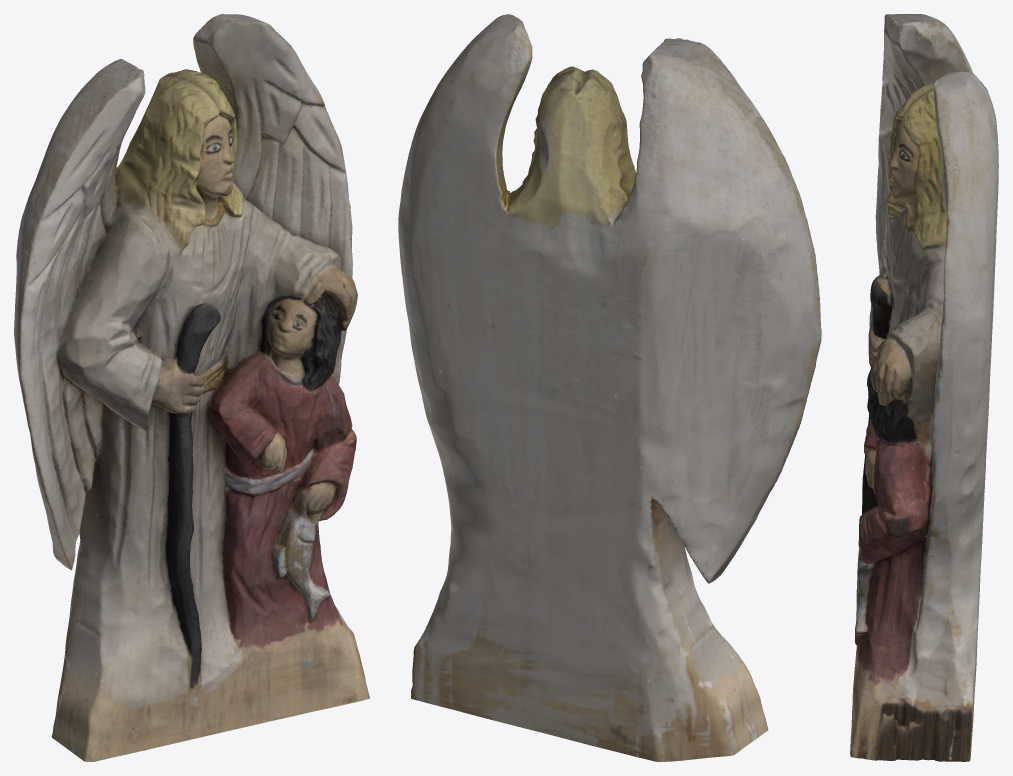
The model's file is MPLW_E_1272_lowpoly.glb.
3 renders of one model, left to right at view 1: azimuth 30°, elevation 25°; view 2: azimuth 150°, elevation 25°; view 3: azimuth 270°, elevation 25°, orthographic. The views are drawn at different scales.
Parts seen in each view (by area): view 1: MPLW_E_1272_lowpoly; view 2: MPLW_E_1272_lowpoly; view 3: MPLW_E_1272_lowpoly.
Boxes of the visible parts, bbox=[...] form: MPLW_E_1272_lowpoly: bbox=[14, 14, 369, 761]; MPLW_E_1272_lowpoly: bbox=[398, 14, 821, 761]; MPLW_E_1272_lowpoly: bbox=[850, 14, 998, 761].
Bounding box in the file's own units: 0.2588 × 0.4483 × 0.0938.
1 material, 1 textured.
